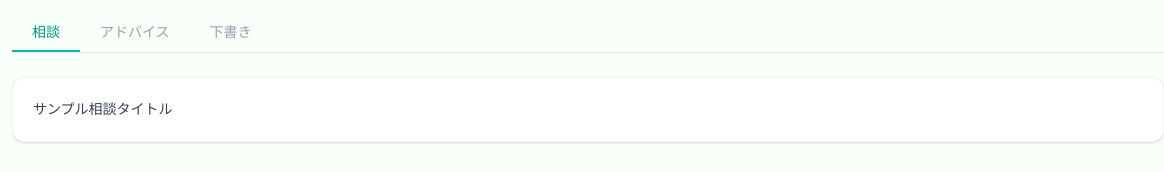
Test: UserContentTabs アドバイスタブ › アドバイスが空だと空状態メッセージが出る
Click the button "アドバイス": click(135, 32) [80, 12, 190, 52]
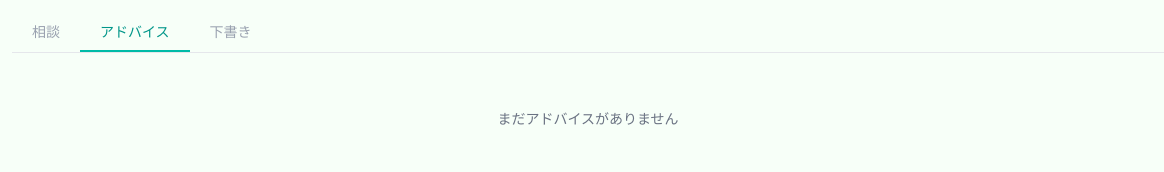
Check: the text "まだアドバイスがありません" is shown, box [497, 109, 679, 128]
